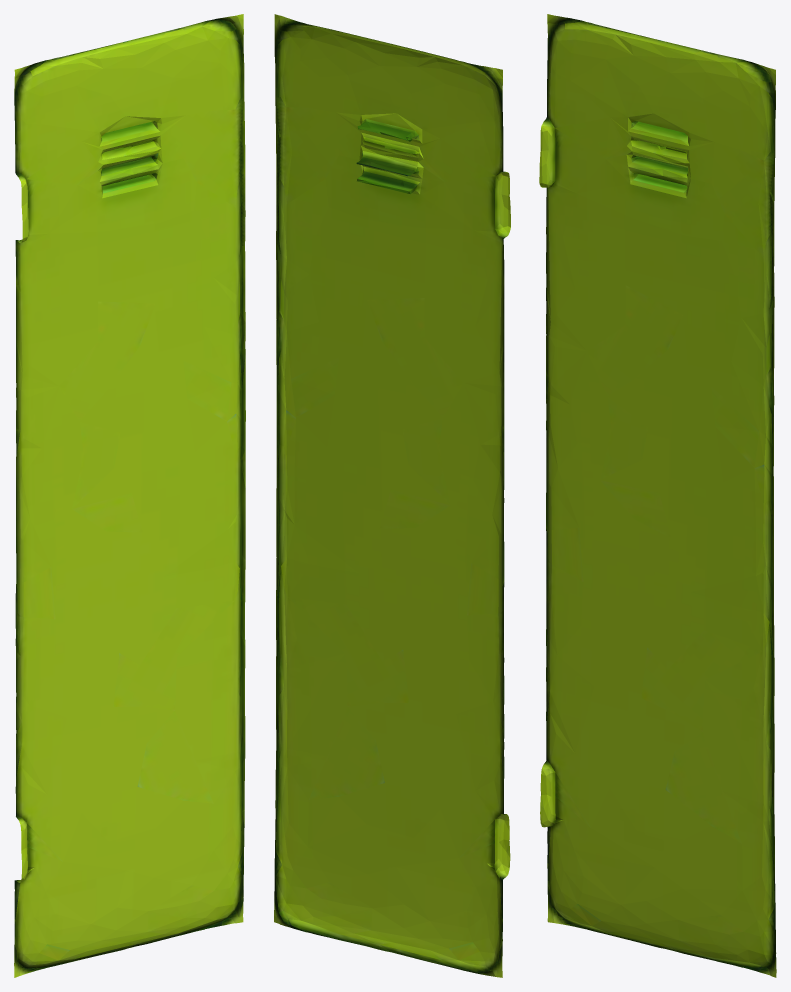
The model's file is door_middle.glb.
3 views of the same model, side by side, from view 1: azimuth 30°, elevation 25°; view 2: azimuth 150°, elevation 25°; view 3: azimuth 330°, elevation 25° (orthographic).
Parts seen in each view (by area): view 1: source_surface_0; view 2: source_surface_0; view 3: source_surface_0.
Part boxes in pixels (box(x1,y1,x2,y2)): source_surface_0: box(14, 14, 245, 977); source_surface_0: box(274, 14, 510, 977); source_surface_0: box(539, 14, 776, 977).
Size of the model in its own units: 0.0669 by 0.254 by 0.00741.
1 material, 1 textured.
